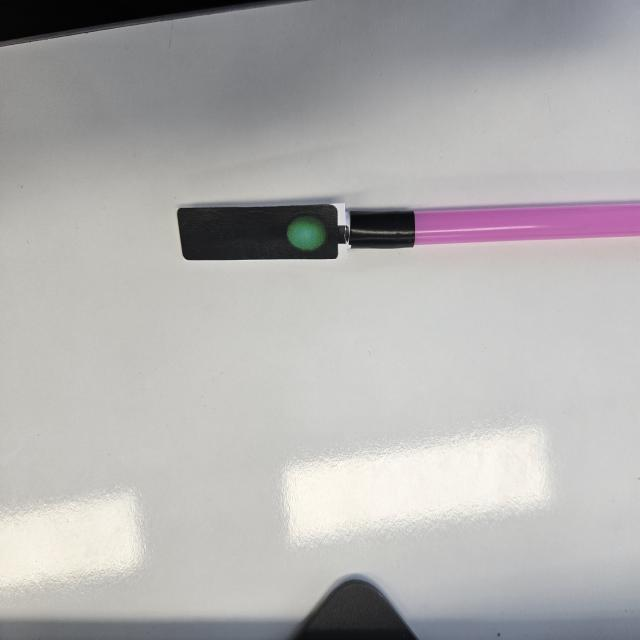traffic light: (177, 200, 350, 263)
